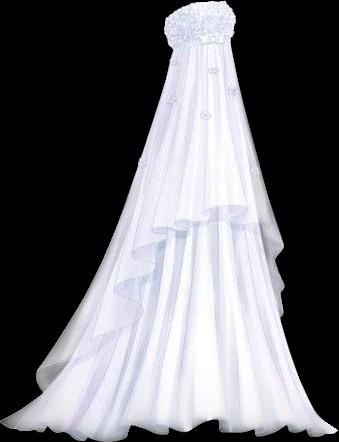Bodice: (164, 1, 235, 52)
Hemline: (36, 203, 284, 374), (0, 417, 337, 441)
Neckline: (164, 0, 226, 20)
Skirt: (0, 43, 336, 441)
Waistline: (171, 39, 231, 55)
